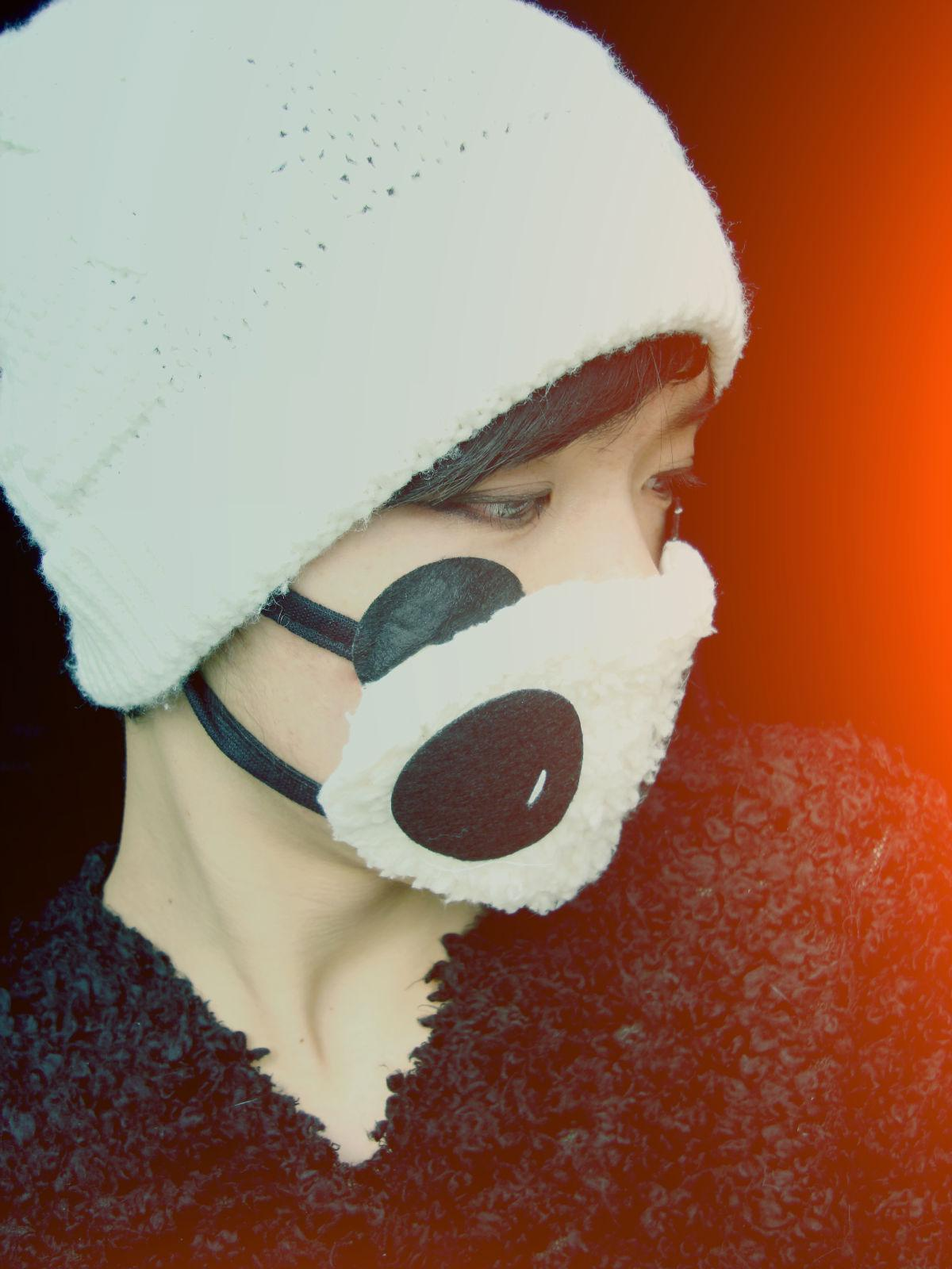OK: (218, 414, 701, 896)
